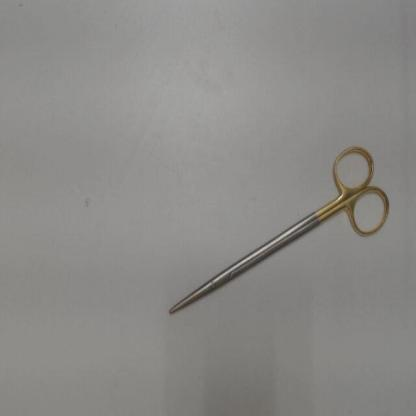7 Metzenbaum Scissors: (166, 139, 393, 320)
